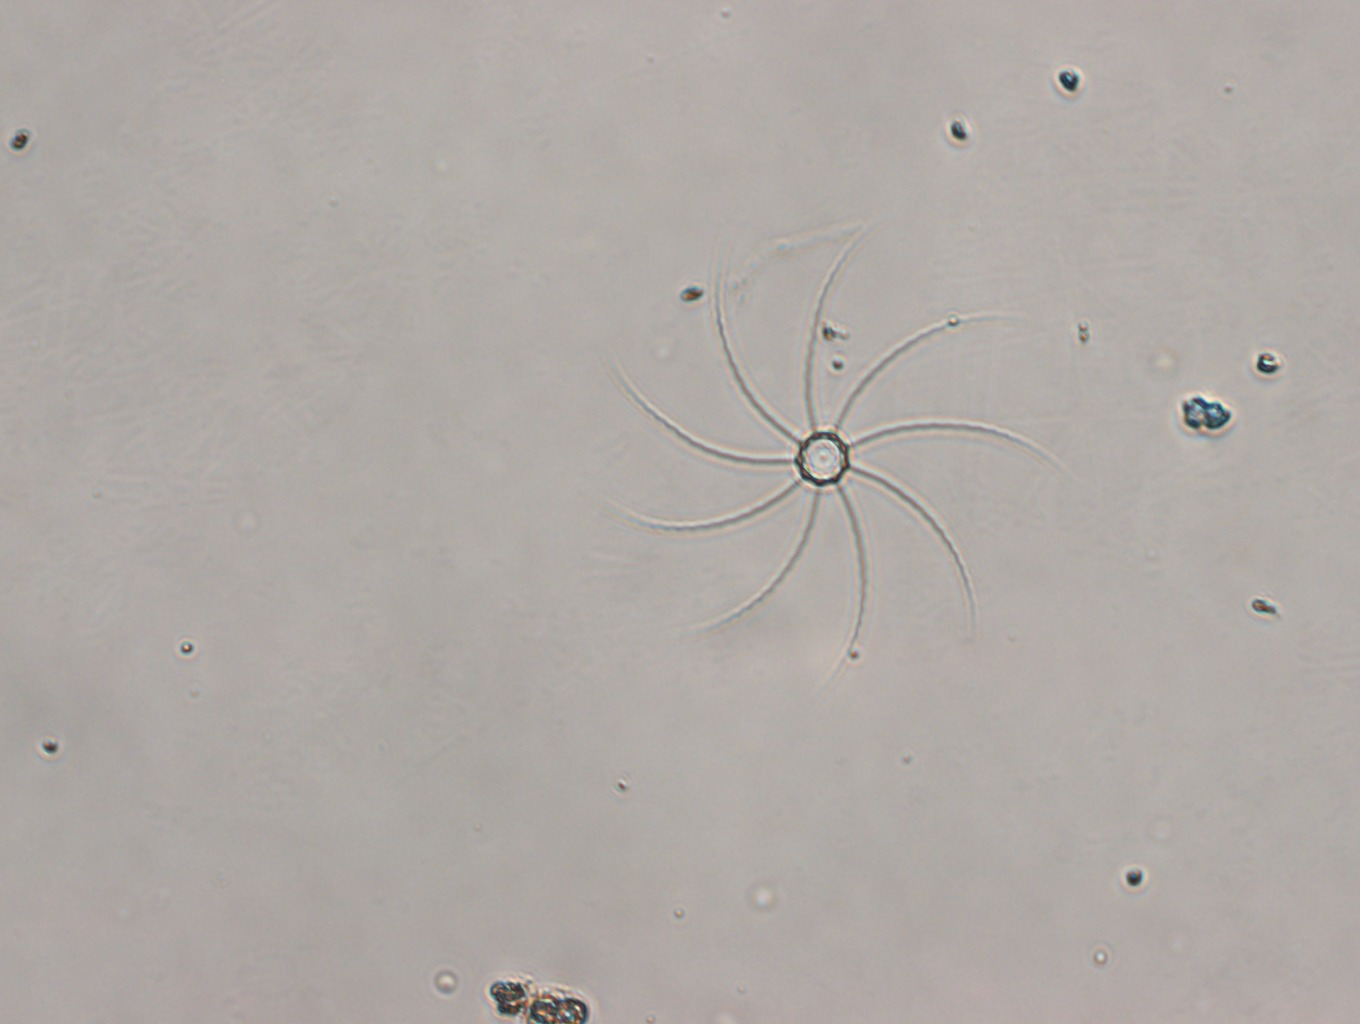bacteriastrum: (579, 231, 1066, 698)
